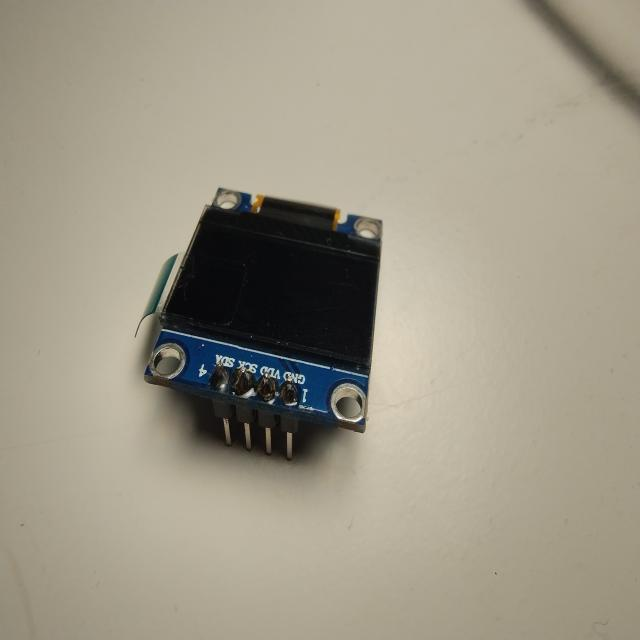oled: (131, 169, 388, 486)
